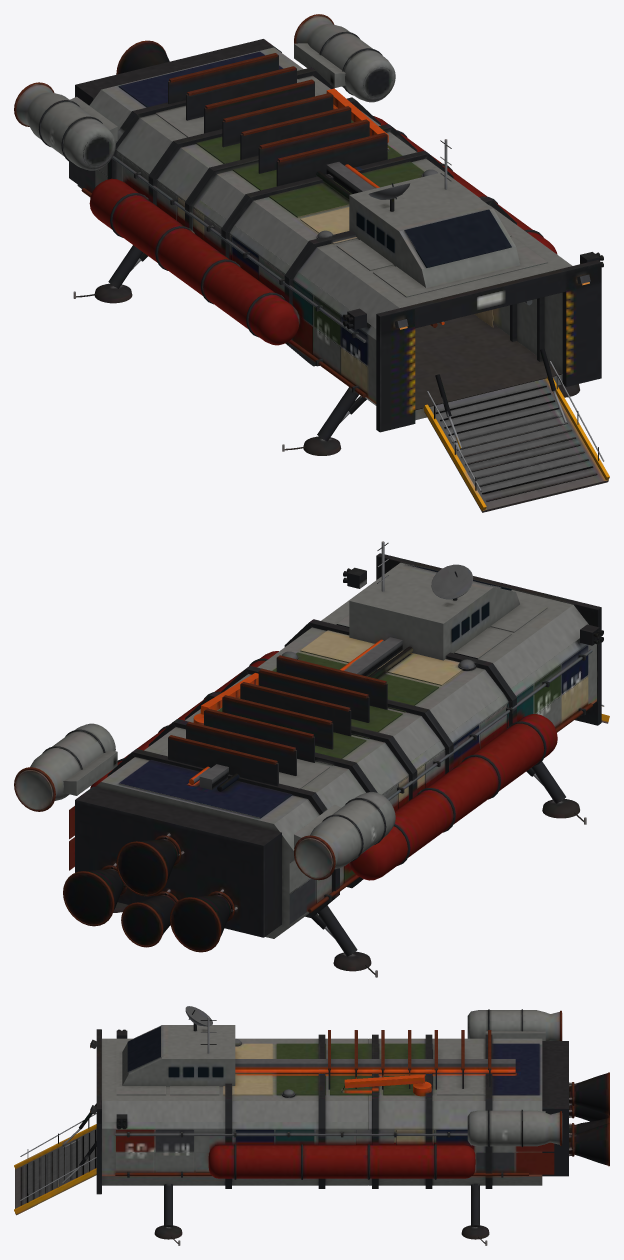
File: drifter_patience.glb
3 views of the same model, one above another, from view 1: azimuth 30°, elevation 25°; view 2: azimuth 150°, elevation 25°; view 3: azimuth 270°, elevation 25° (orthographic). The views are drawn at different scales.
Visible parts, largest first — view 1: drifter_patience; view 2: drifter_patience; view 3: drifter_patience.
Part boxes in pixels (x1,y1,x2,y2): drifter_patience: (14,14,609,512); drifter_patience: (14,541,609,977); drifter_patience: (14,1006,609,1245).
Bounding box in the file's own units: 20.64 × 15.47 × 44.65.
4 materials, 4 textured.
